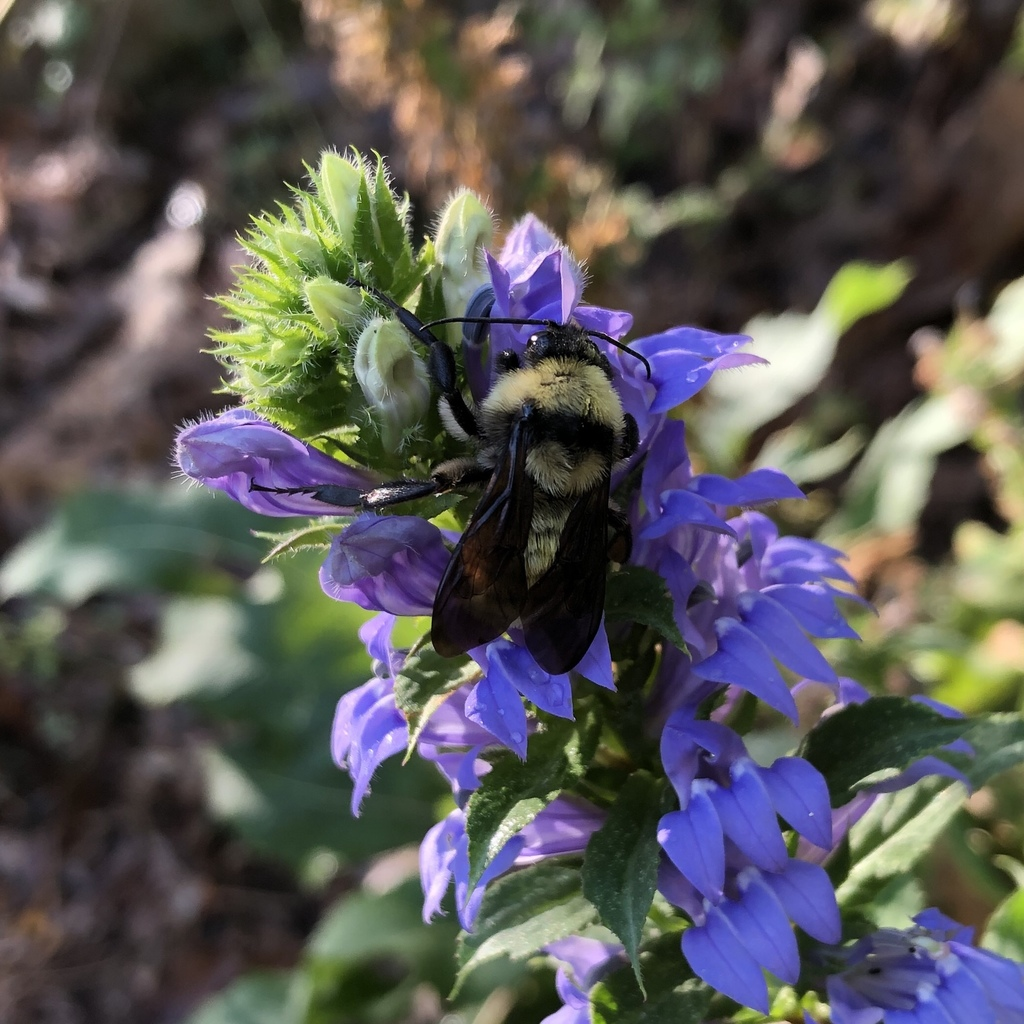bumblebee: (407, 313, 657, 678)
